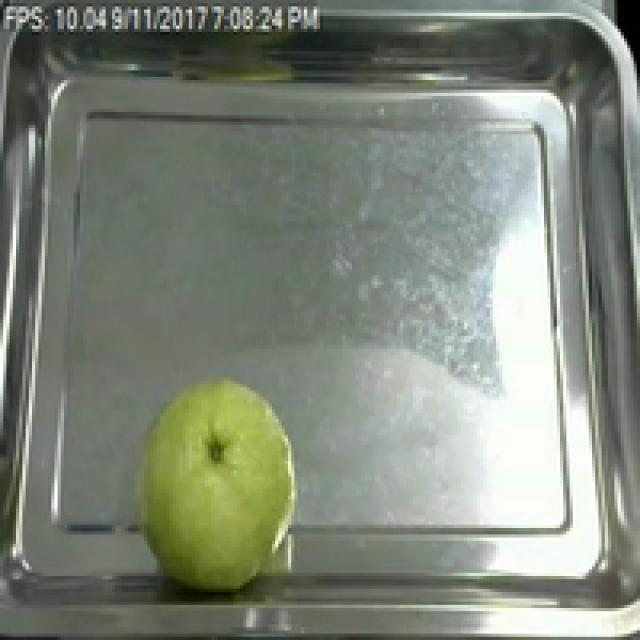Fruit: (125, 368, 310, 598)
